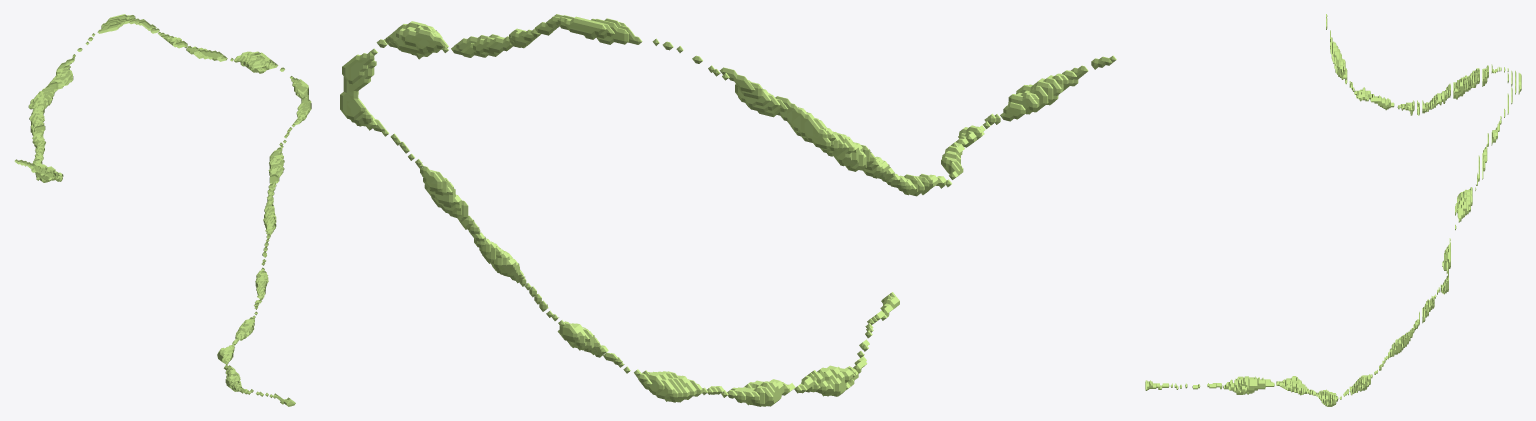
File: SVV_SIADR.gltf
The picture shows the model from 3 angles, left to right: view 1: azimuth 30°, elevation 25°; view 2: azimuth 150°, elevation 25°; view 3: azimuth 270°, elevation 25°; orthographic projection. The views are drawn at different scales.
Parts seen in each view (by area): view 1: SIADR; view 2: SIADR; view 3: SIADR.
Part boxes in pixels (box(x1,y1,x2,y2)): SIADR: box(14, 14, 311, 406); SIADR: box(340, 14, 1116, 406); SIADR: box(1145, 14, 1521, 406).
Size of the model in its own units: 96818 by 74777 by 79649.
